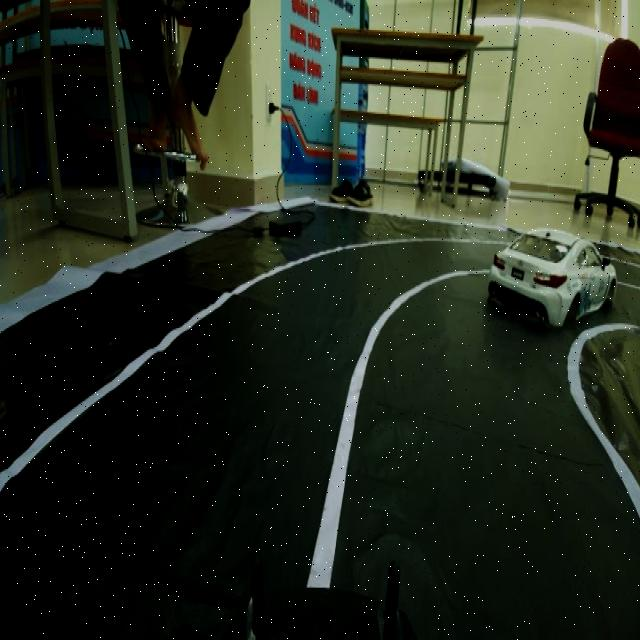car: (488, 198, 608, 326)
